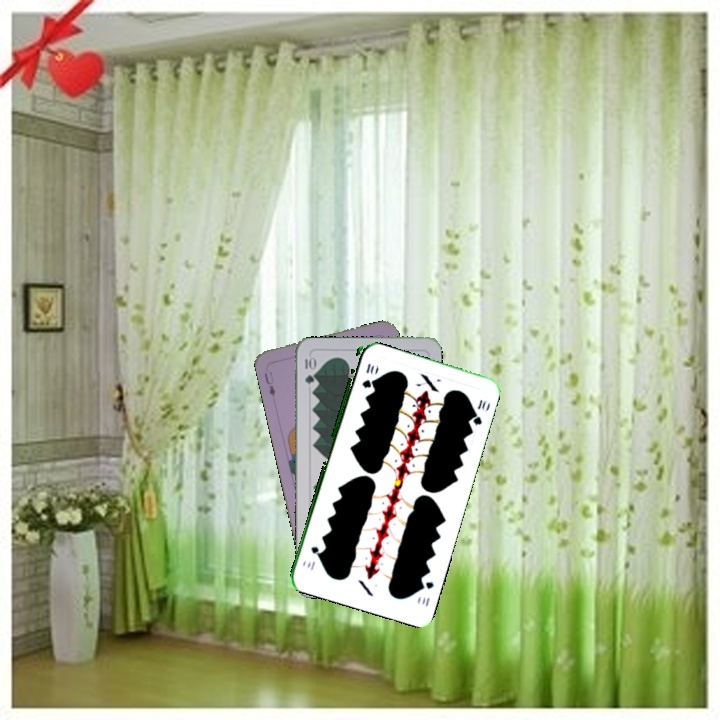EU: (260, 369, 278, 399)
G10: (415, 576, 436, 609), (358, 359, 377, 391), (301, 352, 316, 386)
